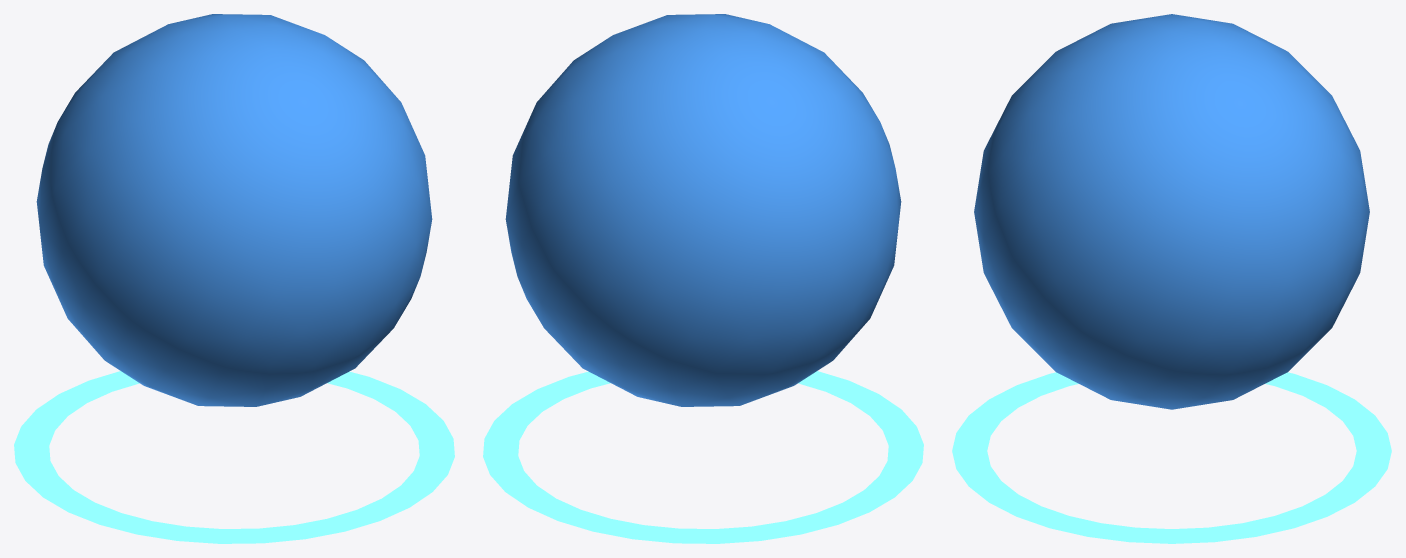
The picture shows the model from 3 angles, left to right: view 1: azimuth 30°, elevation 25°; view 2: azimuth 150°, elevation 25°; view 3: azimuth 270°, elevation 25°; orthographic projection.
Parts seen in each view (by area): view 1: emblem_arcade.lod0; view 2: emblem_arcade.lod0; view 3: emblem_arcade.lod0.
Part boxes in pixels (<box>): emblem_arcade.lod0: <box>14,14,454,543</box>; emblem_arcade.lod0: <box>483,14,923,543</box>; emblem_arcade.lod0: <box>952,14,1391,543</box>.
Size of the model in its own units: 1 by 1.05 by 1.
